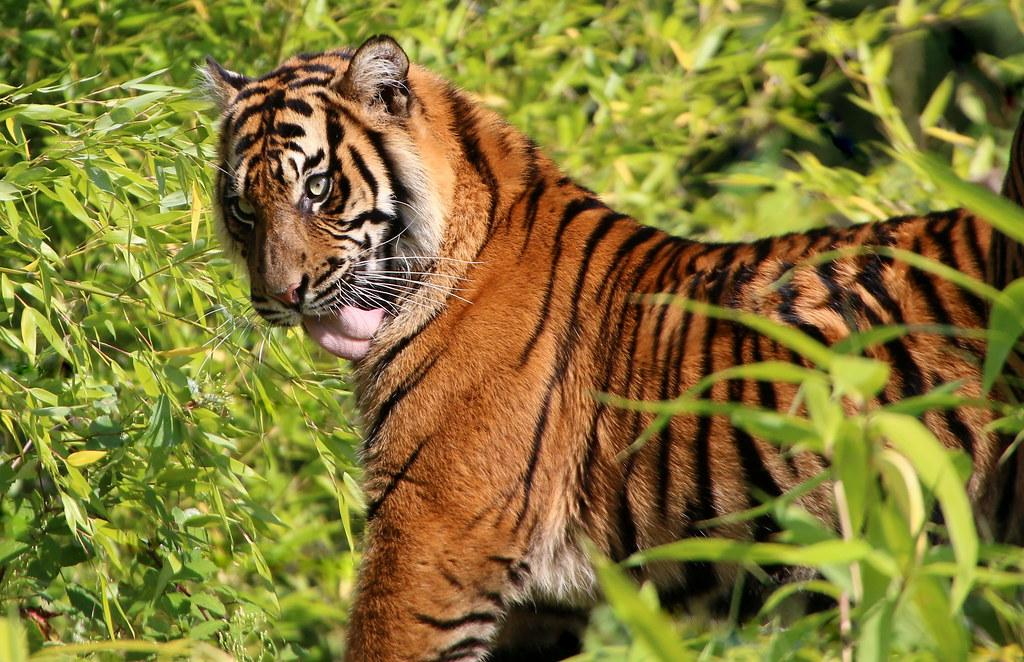tiger: (193, 33, 1023, 661)
